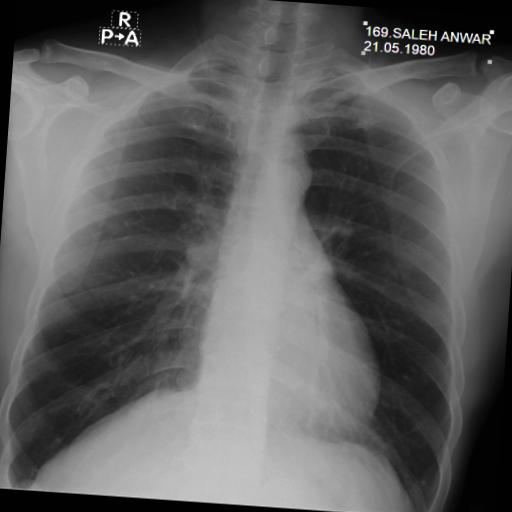normal: (0, 35, 492, 512)
